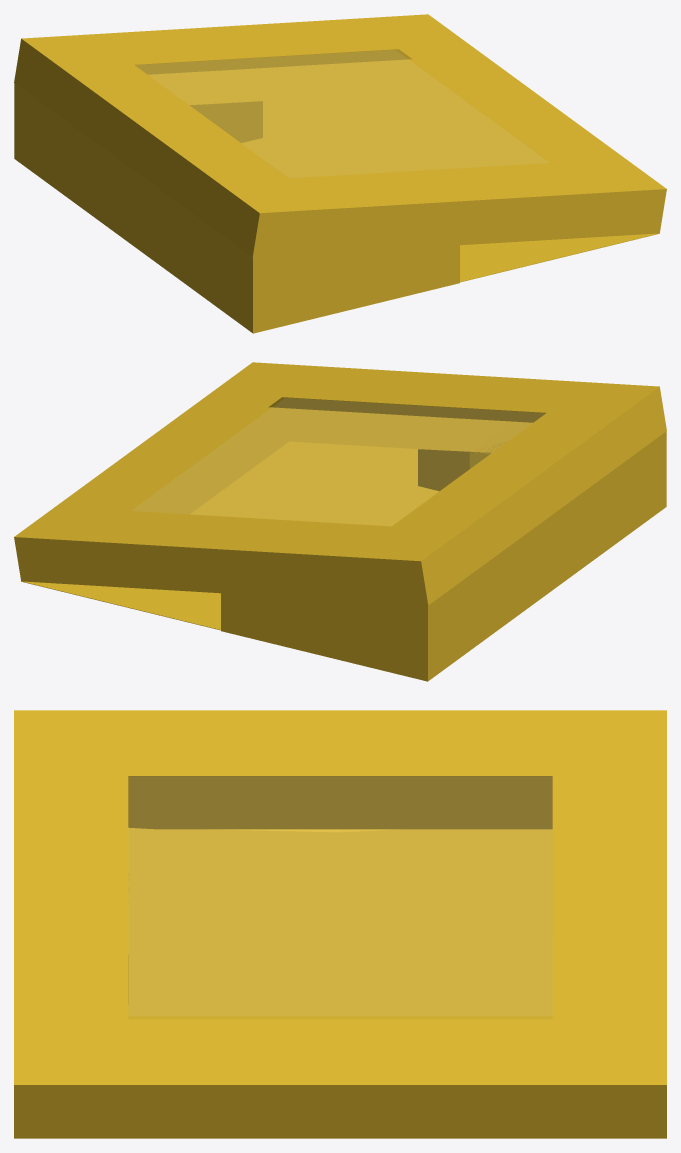
File: Trampoline2.fbx
3 views of the same model, one above another, from view 1: azimuth 30°, elevation 25°; view 2: azimuth 150°, elevation 25°; view 3: azimuth 270°, elevation 25° (orthographic). The views are drawn at different scales.
Parts seen in each view (by area): view 1: body, stand, float; view 2: body, stand, float; view 3: body, stand, float.
Boxes of the visible parts, x1=… form: body: x1=14, y1=14, x2=666, y2=257; stand: x1=14, y1=70, x2=459, y2=333; float: x1=241, y1=93, x2=659, y2=329; body: x1=14, y1=362, x2=666, y2=605; stand: x1=221, y1=418, x2=666, y2=681; float: x1=21, y1=441, x2=438, y2=677; body: x1=14, y1=710, x2=666, y2=1138; stand: x1=128, y1=827, x2=552, y2=1004; float: x1=14, y1=935, x2=666, y2=1138.
Bounding box in the file's own units: 200 × 54.91 × 200.
